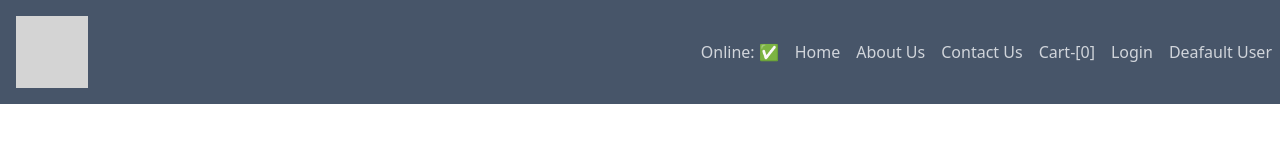
Test: test cases for Header Component › should have Logout on clicking login button
Click the button "Login". click: (1132, 52)
box: [1111,40,1153,64]
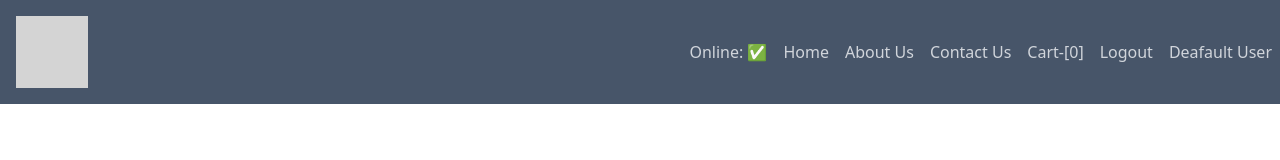
Check: the button "Logout" is shown, box [1100,40,1153,64]
